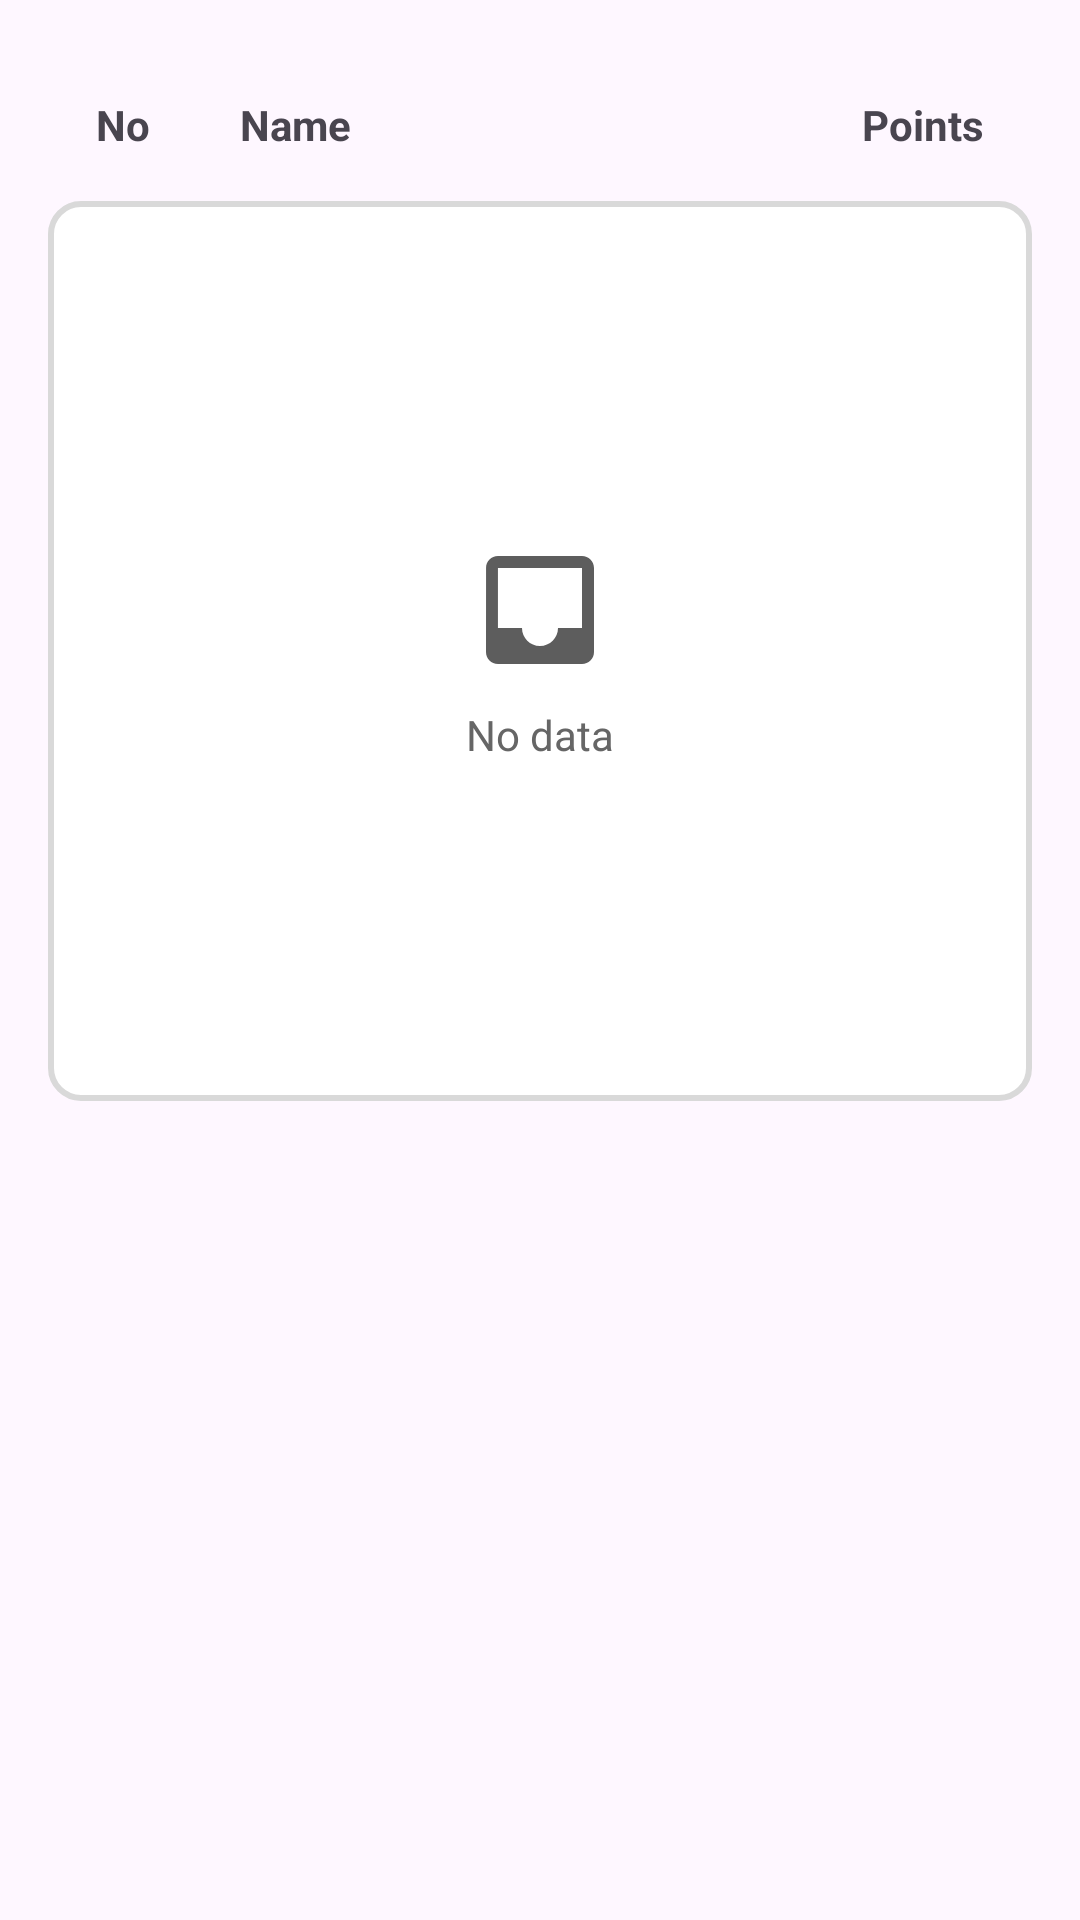

Screen size 1080×1920. Icon name, then its center in pixels as [x,y]:
Empty state icon: [540,610]
